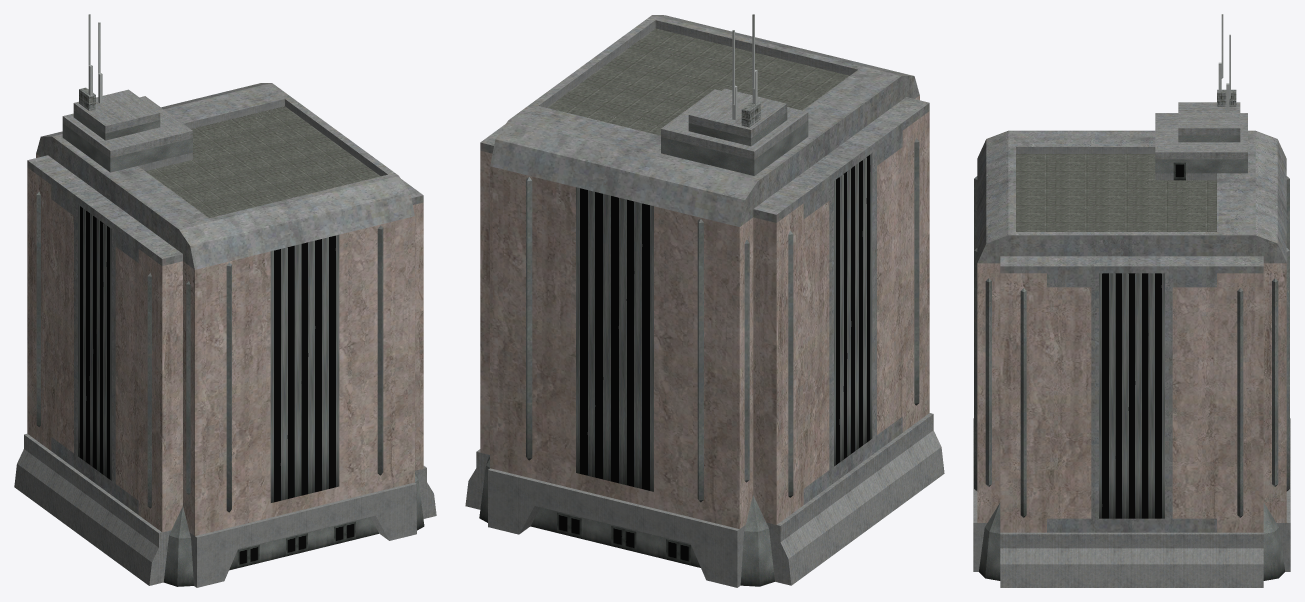
The model's file is thm_corl_imprv_building_s03_r0_mesh_l2.fbx.
3 renders of one model, left to right at view 1: azimuth 30°, elevation 25°; view 2: azimuth 150°, elevation 25°; view 3: azimuth 270°, elevation 25°, orthographic. The views are drawn at different scales.
Visible parts, largest first — view 1: mesh_node; view 2: mesh_node; view 3: mesh_node.
Part boxes in pixels (x1,y1,x2,y2): mesh_node: (14,14,436,587); mesh_node: (465,14,944,587); mesh_node: (973,14,1290,587).
Bounding box in the file's own units: 41.8 × 66 × 41.
